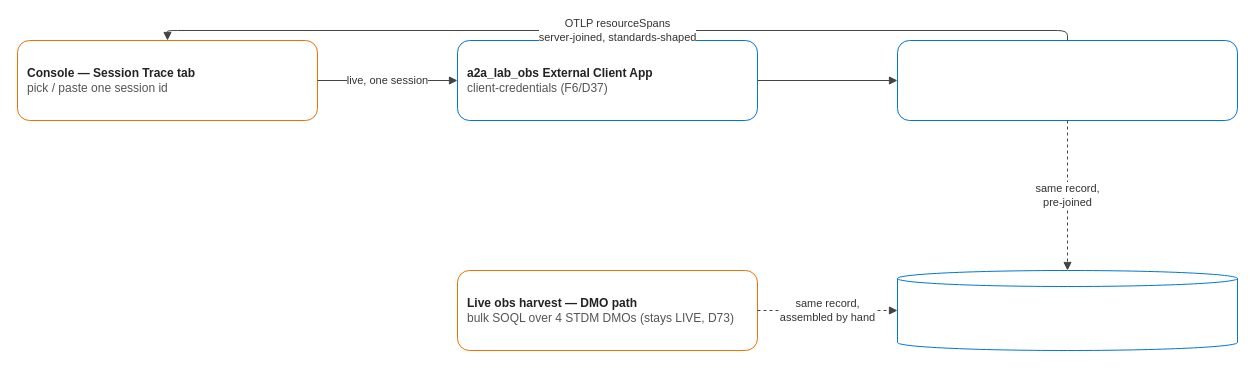
The diagram is 1255 pixels wide and 368 high, and some of its shapes have lost their labels. Each missing label, with the centre of its shape:
Data 360 agent session-tracing record: the point at 1067,310
GET /einstein/audit/otel/{session-id} Session Trace OTel API (beta): the point at 1067,80
